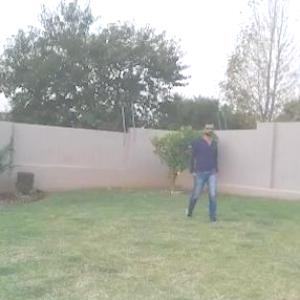follow: (188, 120, 222, 228)
